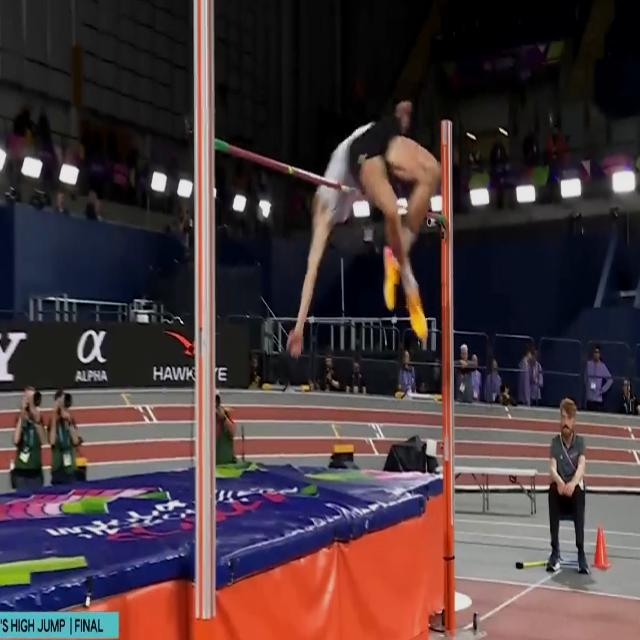jump: (287, 104, 441, 358)
